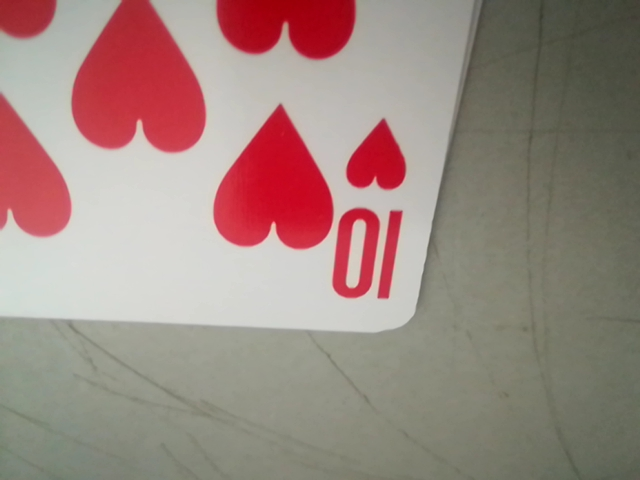hx 10: (330, 115, 419, 309)
